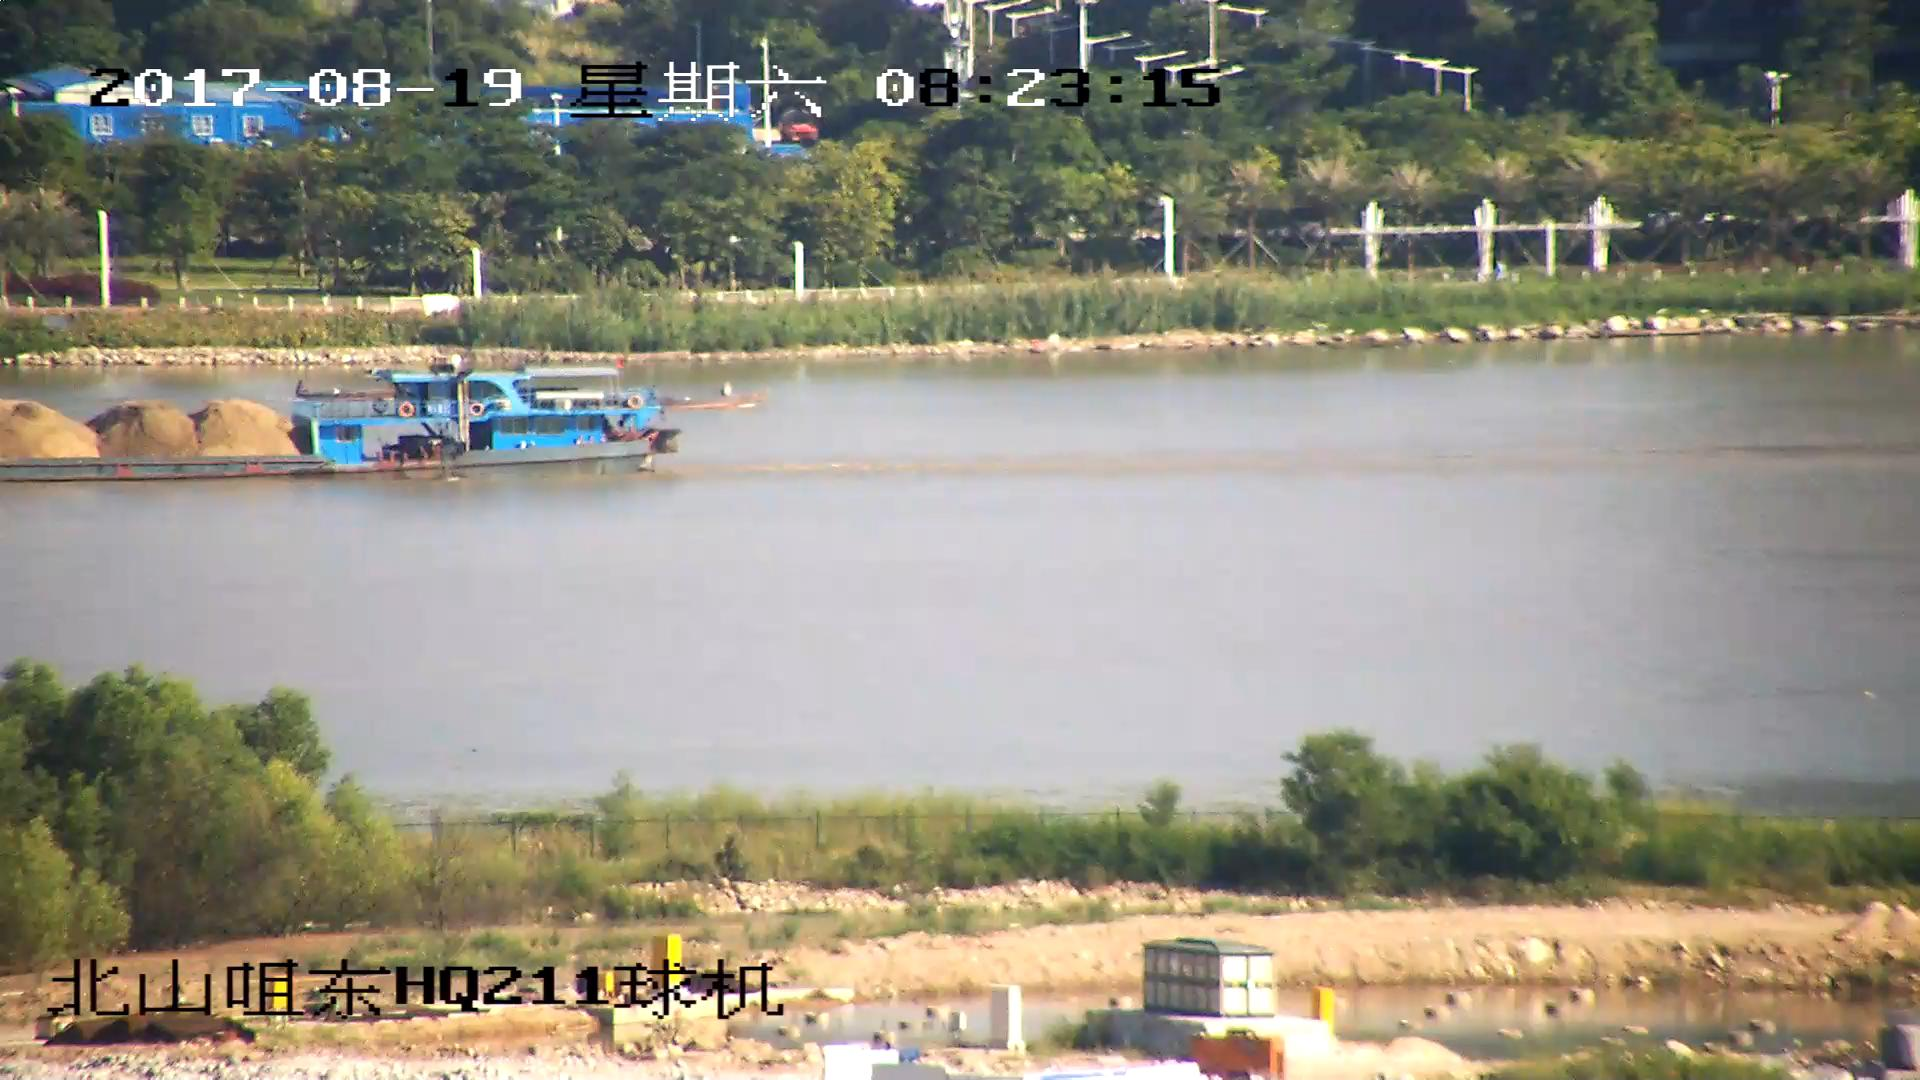fishing boat: (654, 380, 764, 414)
ore carrier: (1, 348, 681, 482)
